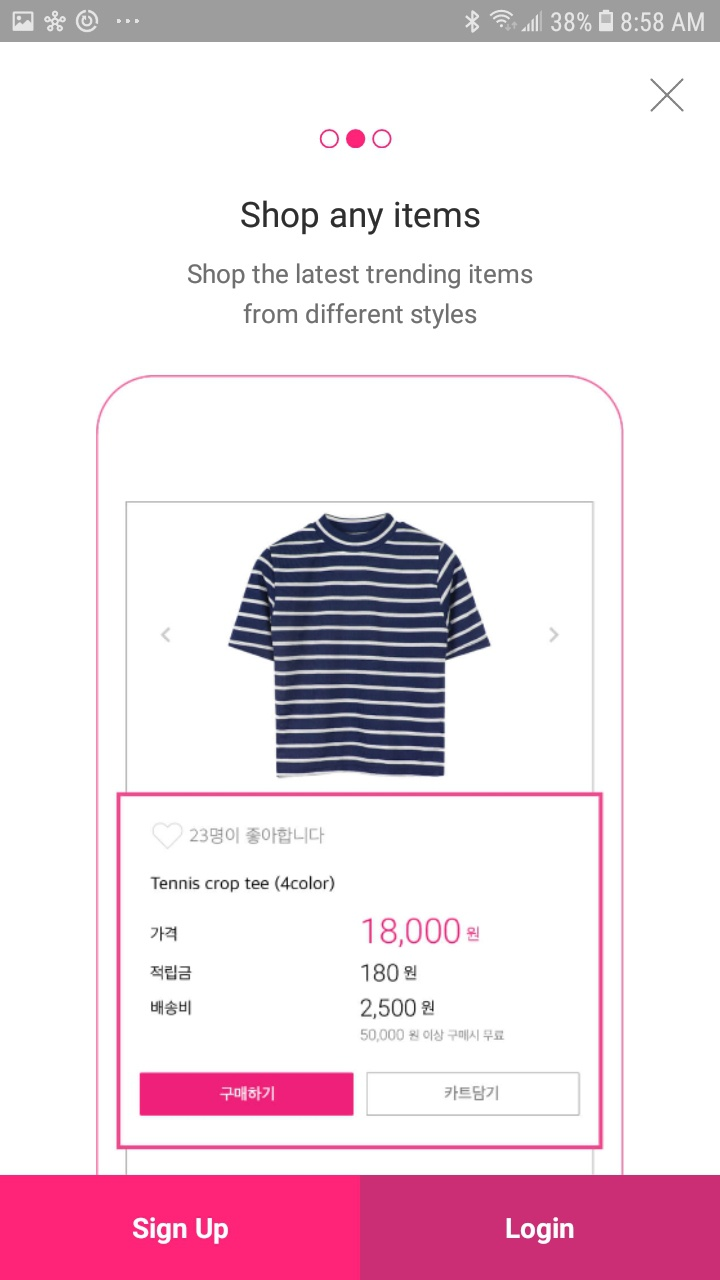Icon: (649, 78, 685, 114)
Image: (96, 375, 625, 1175)
PageIndicator: (320, 129, 393, 150)
Text: (188, 263, 533, 330), (241, 200, 481, 236)
TextButton: (360, 1175, 720, 1280), (1, 1175, 360, 1280)
UpperTaskBar: (1, 1, 720, 43)
